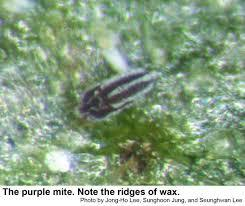insect: (77, 60, 160, 124)
